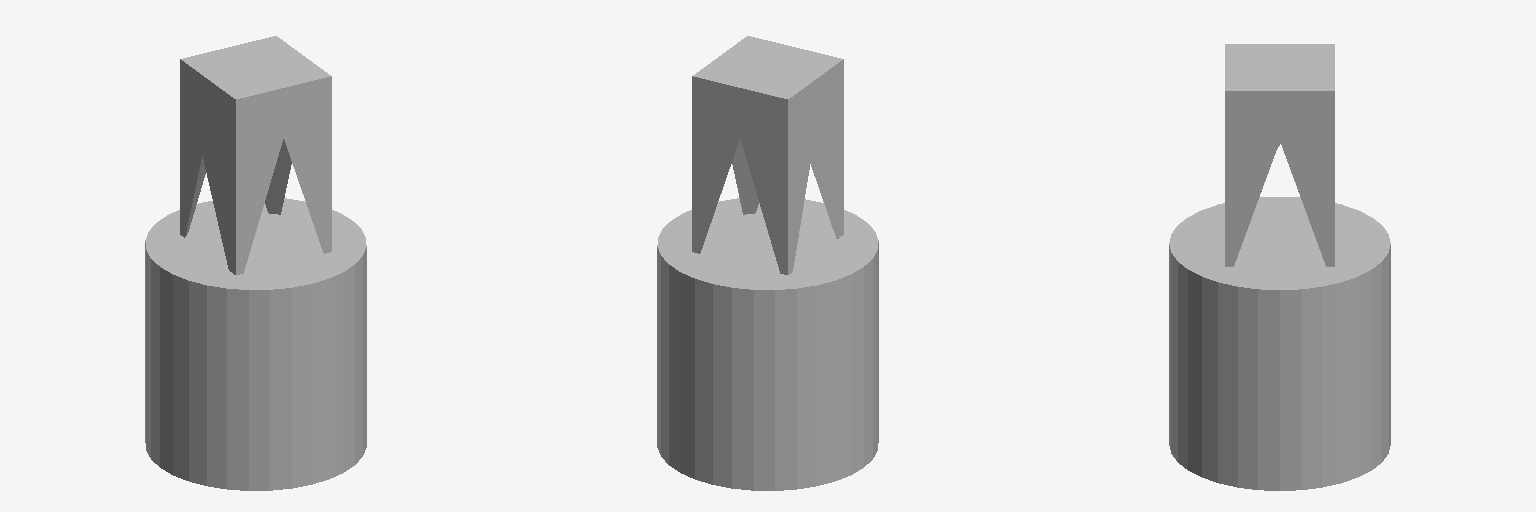
Rendered from buoy.obj.
The picture shows the model from 3 angles: view 1: azimuth 30°, elevation 25°; view 2: azimuth 150°, elevation 25°; view 3: azimuth 270°, elevation 25°; orthographic projection.
Parts seen in each view (by area): view 1: Cylinder, Cube; view 2: Cylinder, Cube; view 3: Cylinder, Cube.
Boxes of the visible parts, x1=… form: Cylinder: x1=145, y1=198, x2=366, y2=490; Cube: x1=180, y1=36, x2=331, y2=274; Cylinder: x1=657, y1=198, x2=878, y2=490; Cube: x1=692, y1=36, x2=843, y2=274; Cylinder: x1=1169, y1=197, x2=1390, y2=490; Cube: x1=1225, y1=44, x2=1334, y2=266.
Size of the model in its own units: 4 by 7.5 by 4.